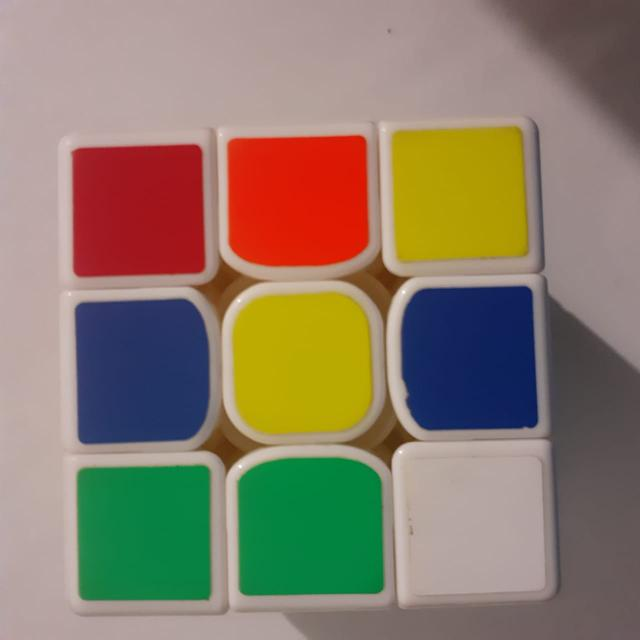Blue: (62, 292, 216, 450), (394, 280, 544, 438)
Green: (62, 453, 226, 615), (231, 452, 393, 604)
Orange: (224, 136, 372, 272)
Red: (62, 140, 215, 282)
White: (402, 441, 550, 605)
Yellow: (226, 285, 384, 445), (380, 120, 540, 272)
